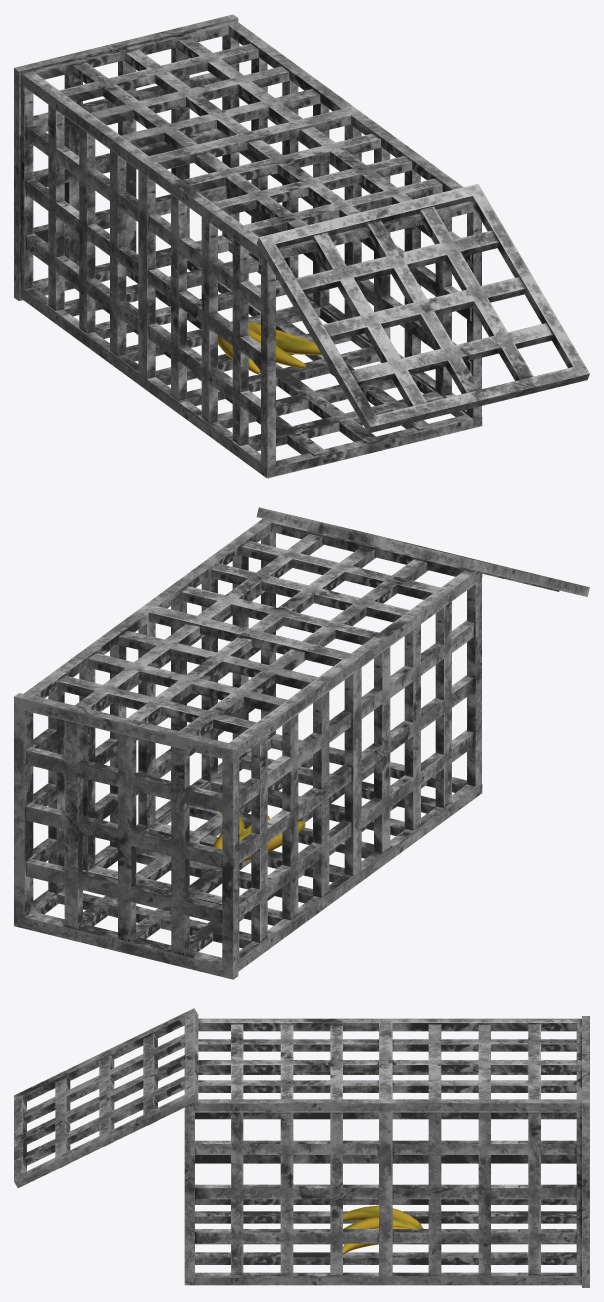
The model's file is Trap 2.fbx.
3 renders of one model, top to bottom at view 1: azimuth 30°, elevation 25°; view 2: azimuth 150°, elevation 25°; view 3: azimuth 270°, elevation 25°, orthographic. The views are drawn at different scales.
Visible parts, largest first — view 1: Cube.002, Cube.007, Cube.001, Cube.003, Cube.004; view 2: Cube.002, Cube.007, Cube.003, Cube.001; view 3: Cube.007, Cube.002, Cube.001, Cube.003, Cube.005, Cube.
Part boxes in pixels (x1,y1,x2,y2): Cube.002: (21, 21, 482, 478); Cube.007: (21, 35, 481, 477); Cube.001: (256, 184, 589, 433); Cube.003: (14, 14, 238, 300); Cube.004: (248, 322, 321, 354); Cube.002: (24, 518, 482, 971); Cube.007: (28, 532, 481, 962); Cube.003: (14, 693, 238, 979); Cube.001: (256, 507, 589, 596); Cube.007: (184, 1030, 581, 1277); Cube.002: (184, 1018, 581, 1285); Cube.001: (14, 1008, 198, 1187); Cube.003: (582, 1016, 589, 1287); Cube.005: (343, 1205, 423, 1228); Cube: (343, 1217, 418, 1228).
Bounding box in the file's own units: 150 × 157 × 424.
Materials: 1 (1 with a texture image).
